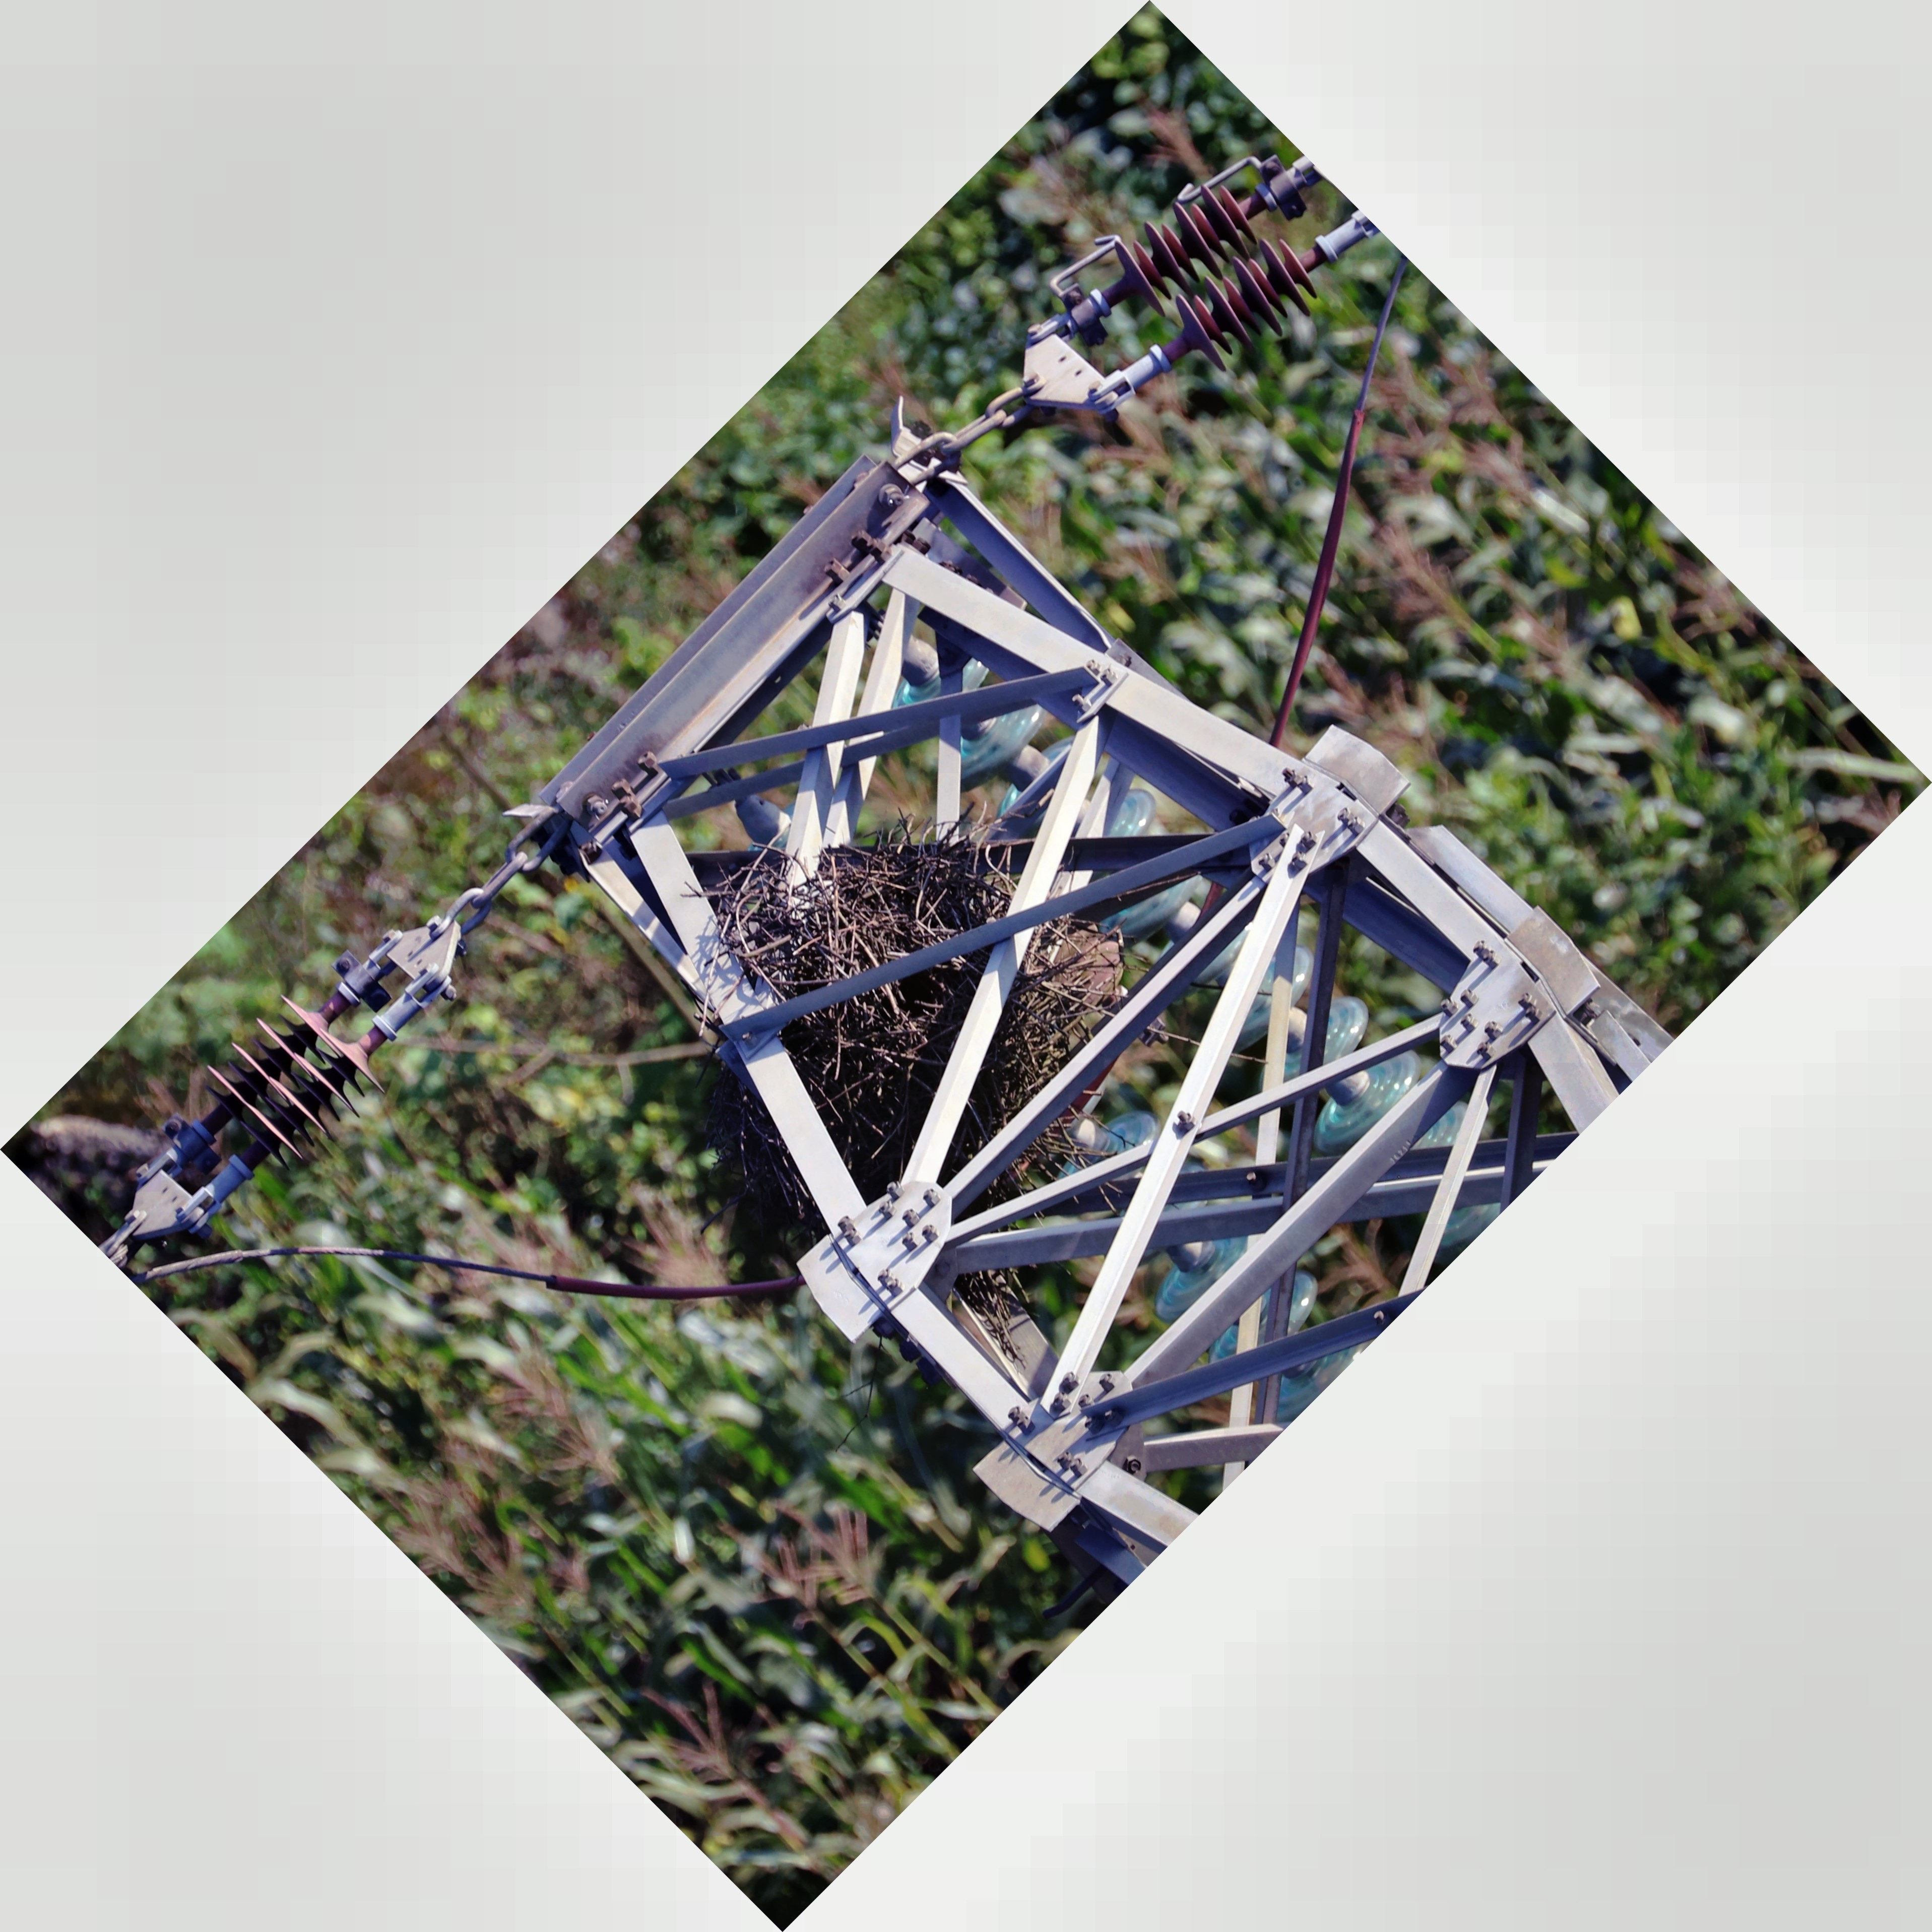niaowo: (660, 830, 1113, 1293)
